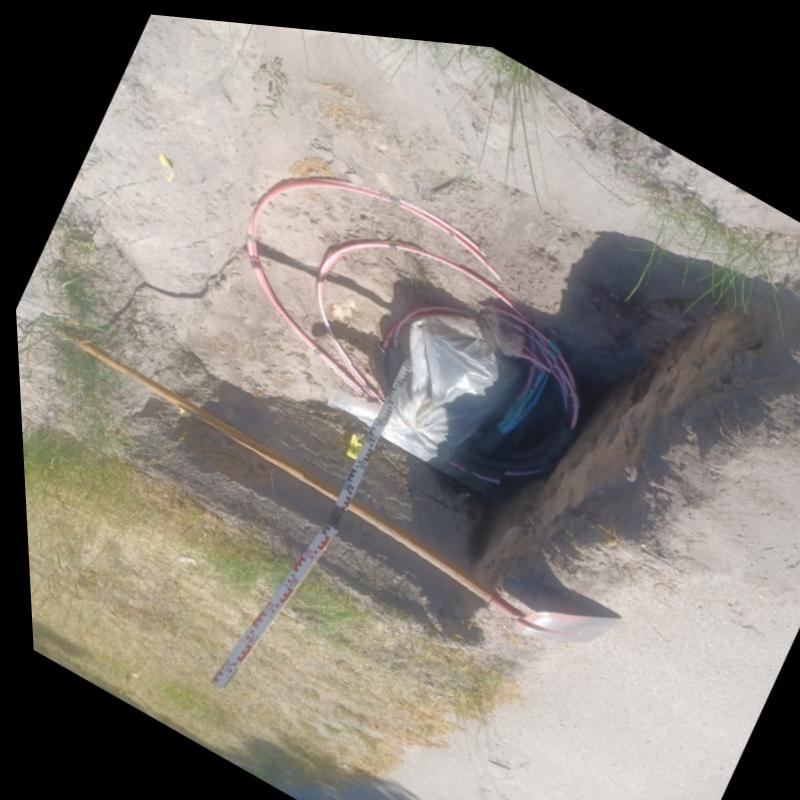NT-Muffen: (321, 303, 553, 457)
